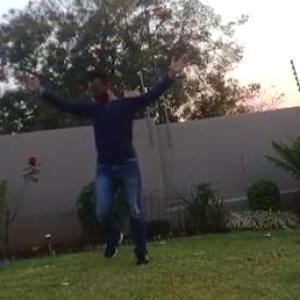takeoff: (18, 57, 190, 278)
